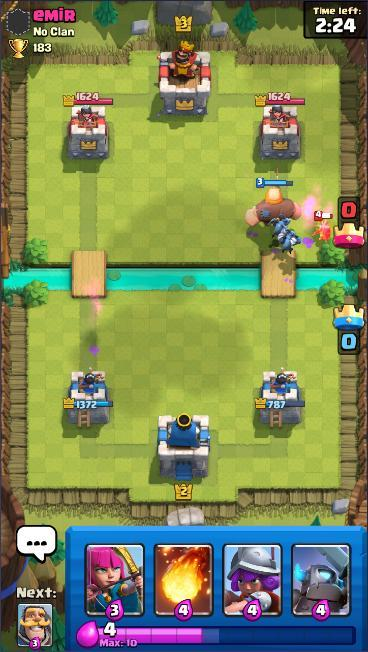EDoctor: (244, 175, 301, 236)
EGoblinGiant: (267, 214, 293, 244), (277, 227, 302, 255)
EMiner: (310, 210, 335, 246)
